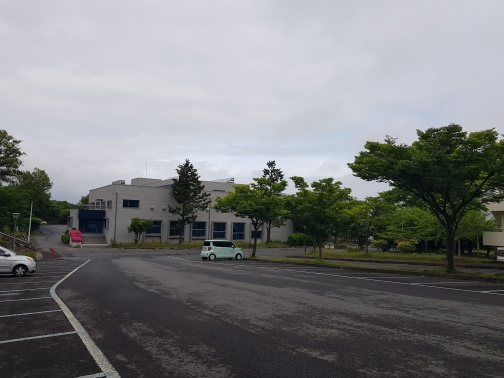College of Social Sciences: (62, 162, 298, 250)
